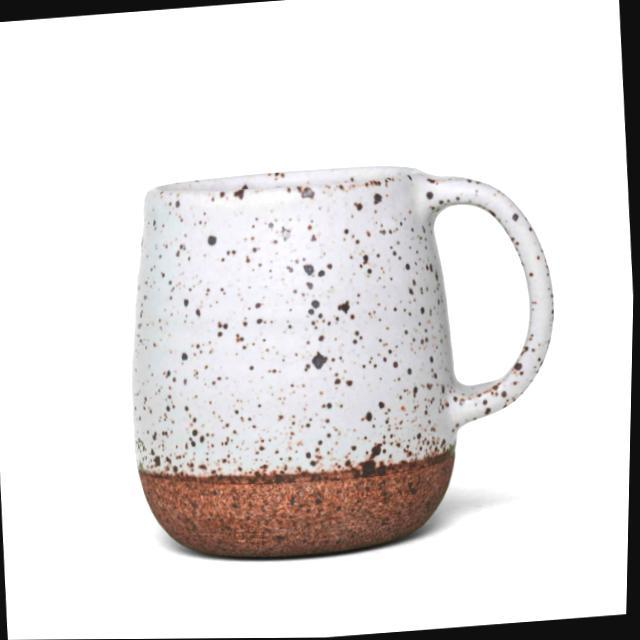cup: (107, 138, 576, 576)
